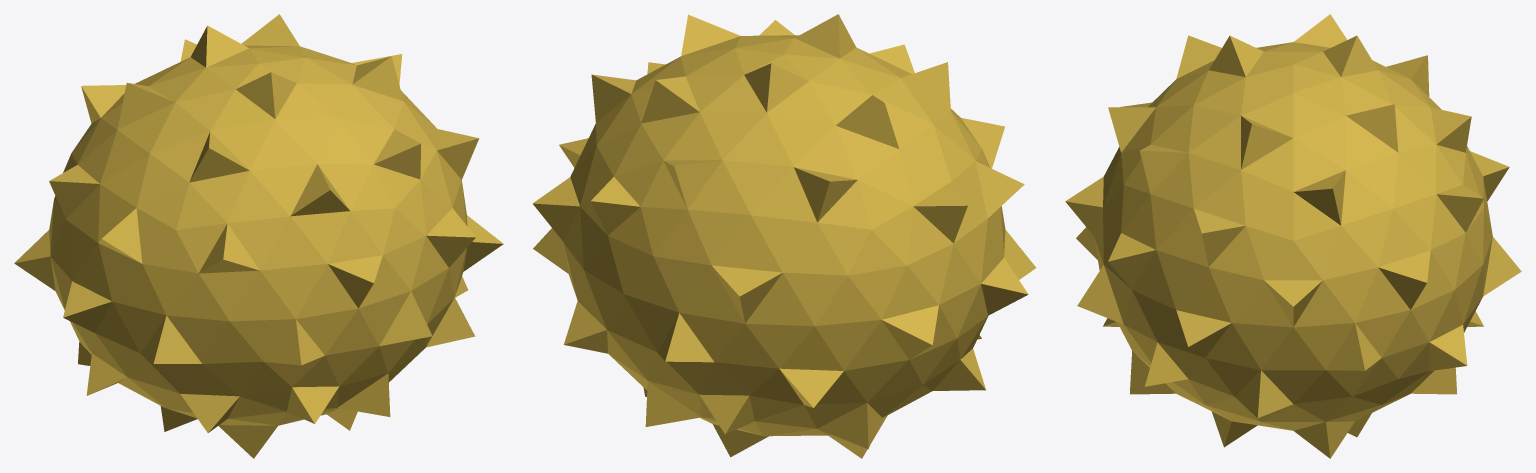
Rendered from sun.fbx.
The picture shows the model from 3 angles, left to right: view 1: azimuth 30°, elevation 25°; view 2: azimuth 150°, elevation 25°; view 3: azimuth 270°, elevation 25°; orthographic projection. The views are drawn at different scales.
Visible parts, largest first — view 1: Sun.001; view 2: Sun.001; view 3: Sun.001.
Boxes of the visible parts, bbox=[...] form: Sun.001: bbox=[14, 14, 503, 458]; Sun.001: bbox=[532, 14, 1036, 458]; Sun.001: bbox=[1065, 14, 1521, 458].
Bounding box in the file's own units: 14.59 × 12.5 × 13.5.
